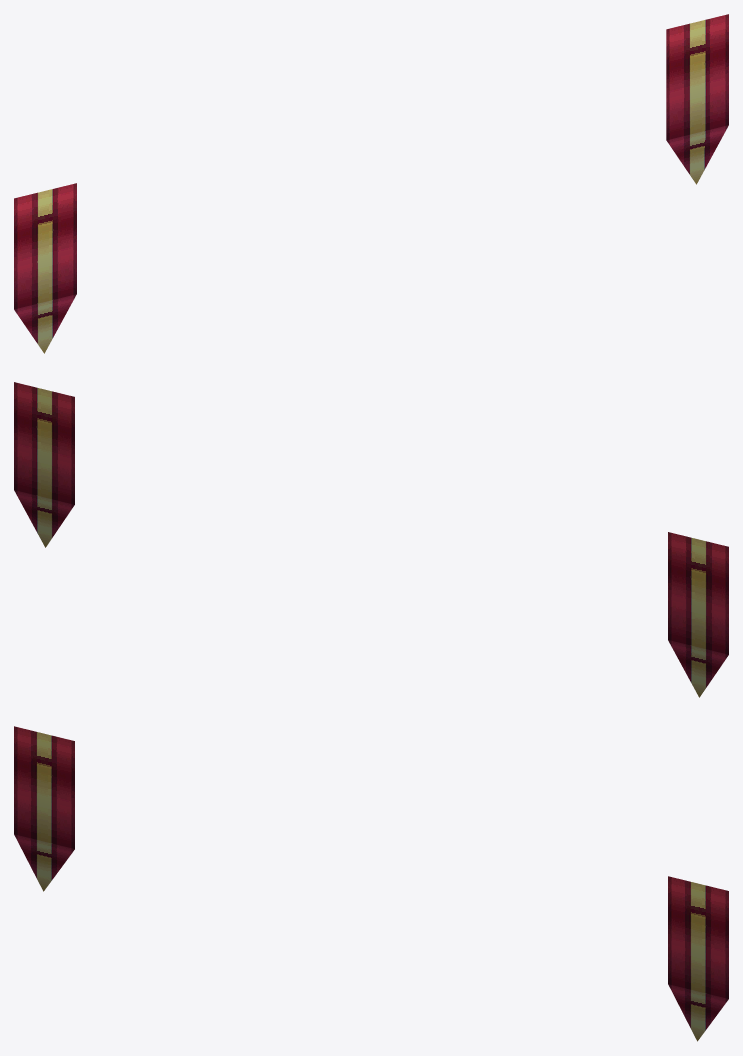
Rendered from object_7_lev2.glb.
3 renders of one model, top to bottom at view 1: azimuth 30°, elevation 25°; view 2: azimuth 150°, elevation 25°; view 3: azimuth 330°, elevation 25°, orthographic. The views are drawn at different scales.
Parts seen in each view (by area): view 1: object_7_lev2; view 2: object_7_lev2; view 3: object_7_lev2.
Part boxes in pixels (x1,y1,x2,y2): object_7_lev2: [14, 14, 728, 353]; object_7_lev2: [14, 382, 728, 697]; object_7_lev2: [14, 726, 728, 1041].
Size of the model in its own units: 8.52 by 1.83 by 0.2072.
Materials: 1 (1 with a texture image).
